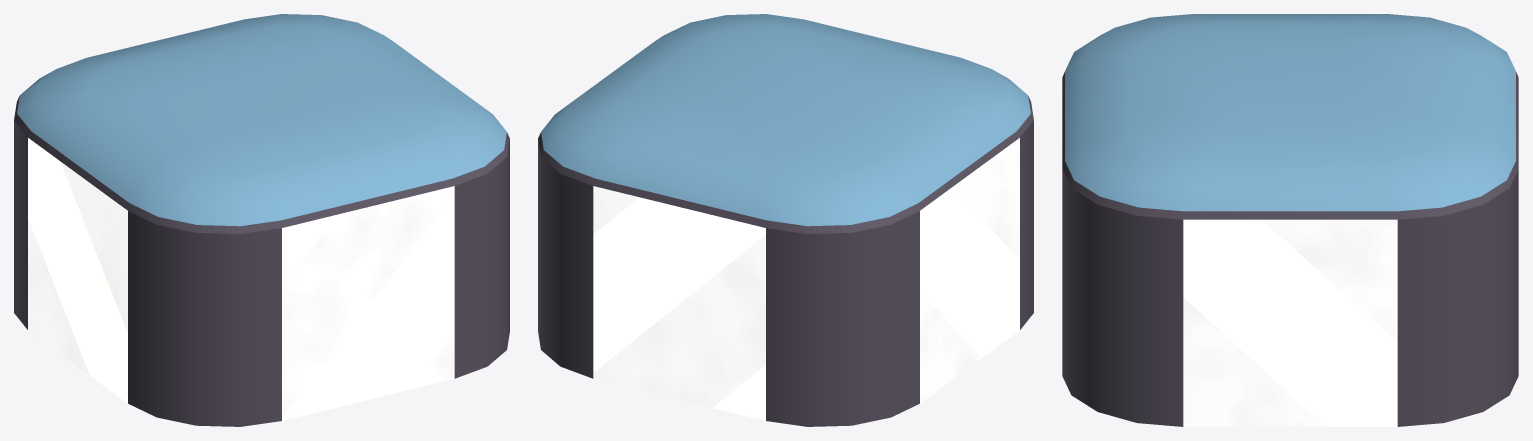
File: EM_150_wheel_switch_base.glb
3 renders of one model, left to right at view 1: azimuth 30°, elevation 25°; view 2: azimuth 150°, elevation 25°; view 3: azimuth 270°, elevation 25°, orthographic. The views are drawn at different scales.
Visible parts, largest first — view 1: base; view 2: base; view 3: base.
Boxes of the visible parts, x1,y1,x2,y2 form: base: (14, 14, 509, 426); base: (538, 14, 1033, 426); base: (1062, 14, 1518, 426).
Bounding box in the file's own units: 1.5 × 0.8886 × 1.5.
Materials: 3 (1 with a texture image).
